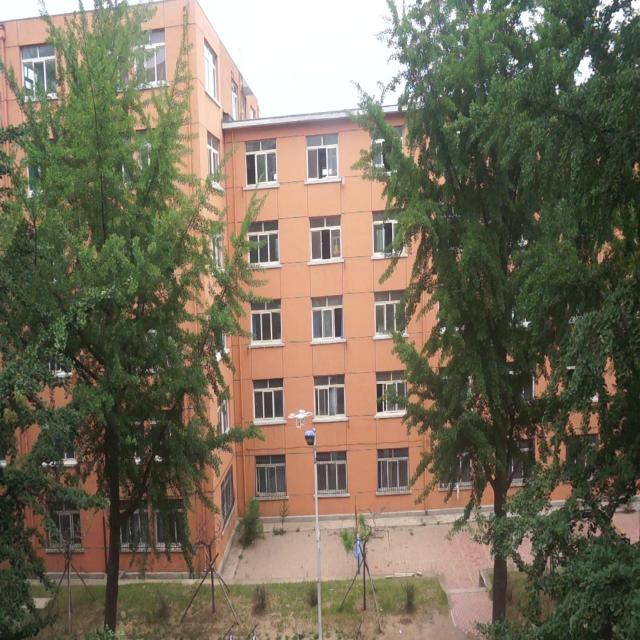drone: (288, 405, 314, 429)
